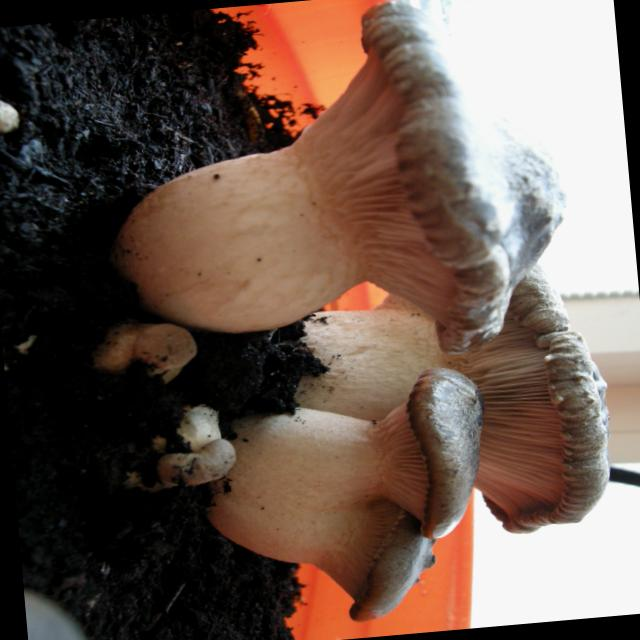Pleurotus eryngii: (108, 1, 578, 376), (287, 265, 614, 553), (201, 370, 496, 633)
